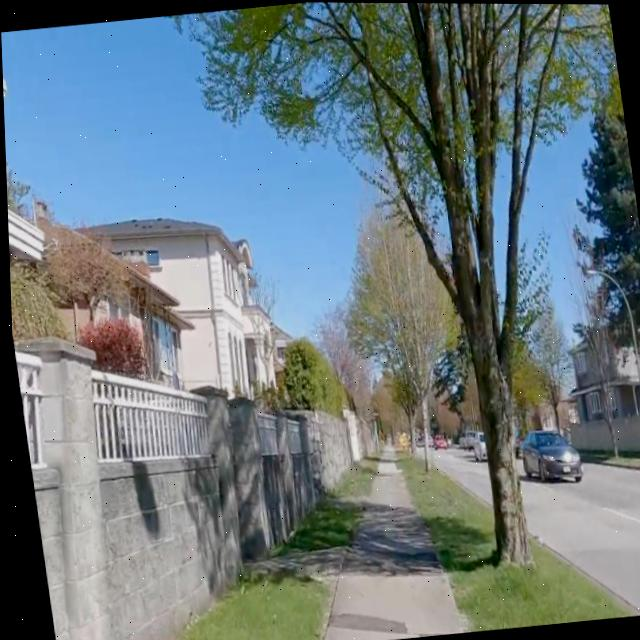Automobile: (516, 428, 579, 481), (471, 431, 482, 459), (455, 431, 472, 449), (430, 433, 443, 447)
Obstacle: (195, 2, 577, 561), (17, 340, 236, 640), (396, 459, 633, 631), (169, 575, 324, 640), (273, 495, 357, 554), (263, 450, 313, 527), (330, 458, 373, 496), (418, 399, 425, 470), (408, 436, 413, 456)
Road: (512, 458, 640, 613), (431, 450, 484, 499)
Sidewalk: (243, 504, 436, 577), (316, 565, 461, 640), (366, 453, 409, 511)
